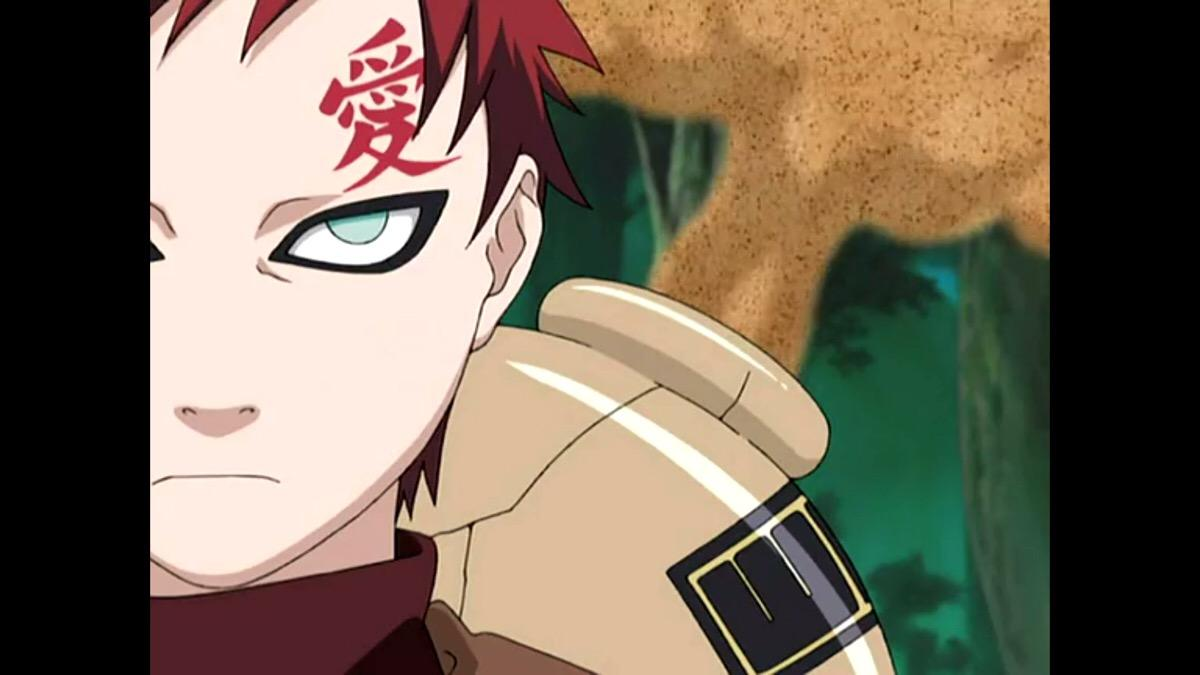gaara: (150, 5, 550, 591)
